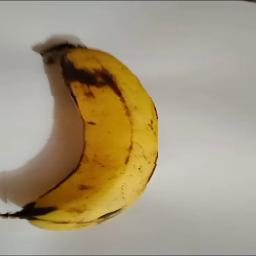Banana Semifresh: (0, 39, 158, 232)
